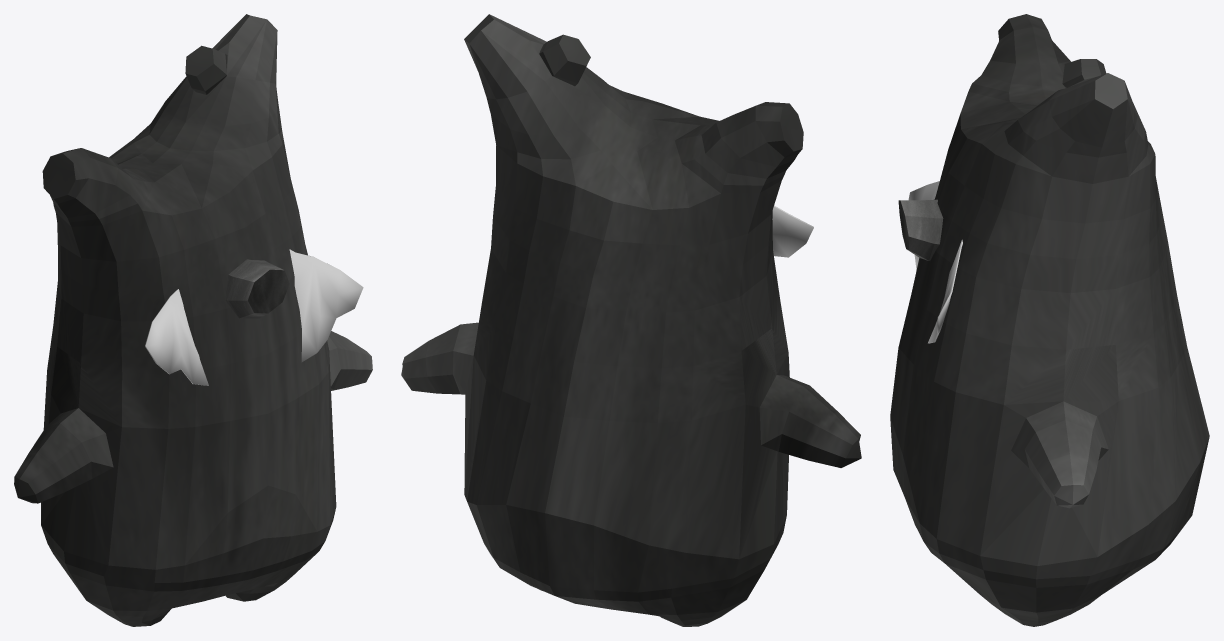
File: frame_0057.obj
The picture shows the model from 3 angles, left to right: view 1: azimuth 30°, elevation 25°; view 2: azimuth 150°, elevation 25°; view 3: azimuth 270°, elevation 25°; orthographic projection. The views are drawn at different scales.
Parts seen in each view (by area): view 1: korok, leaf, nose; view 2: korok, leaf; view 3: korok, nose, leaf.
Boxes of the visible parts, box(x1,y1,x2,y2) form: korok: box(14, 14, 372, 626); leaf: box(145, 249, 363, 385); nose: box(225, 259, 289, 318); korok: box(401, 14, 861, 626); leaf: box(772, 205, 813, 257); korok: box(890, 14, 1209, 626); nose: box(898, 199, 943, 260); leaf: box(908, 181, 962, 343).
Size of the model in its own units: 1.7 by 2.29 by 1.16.
